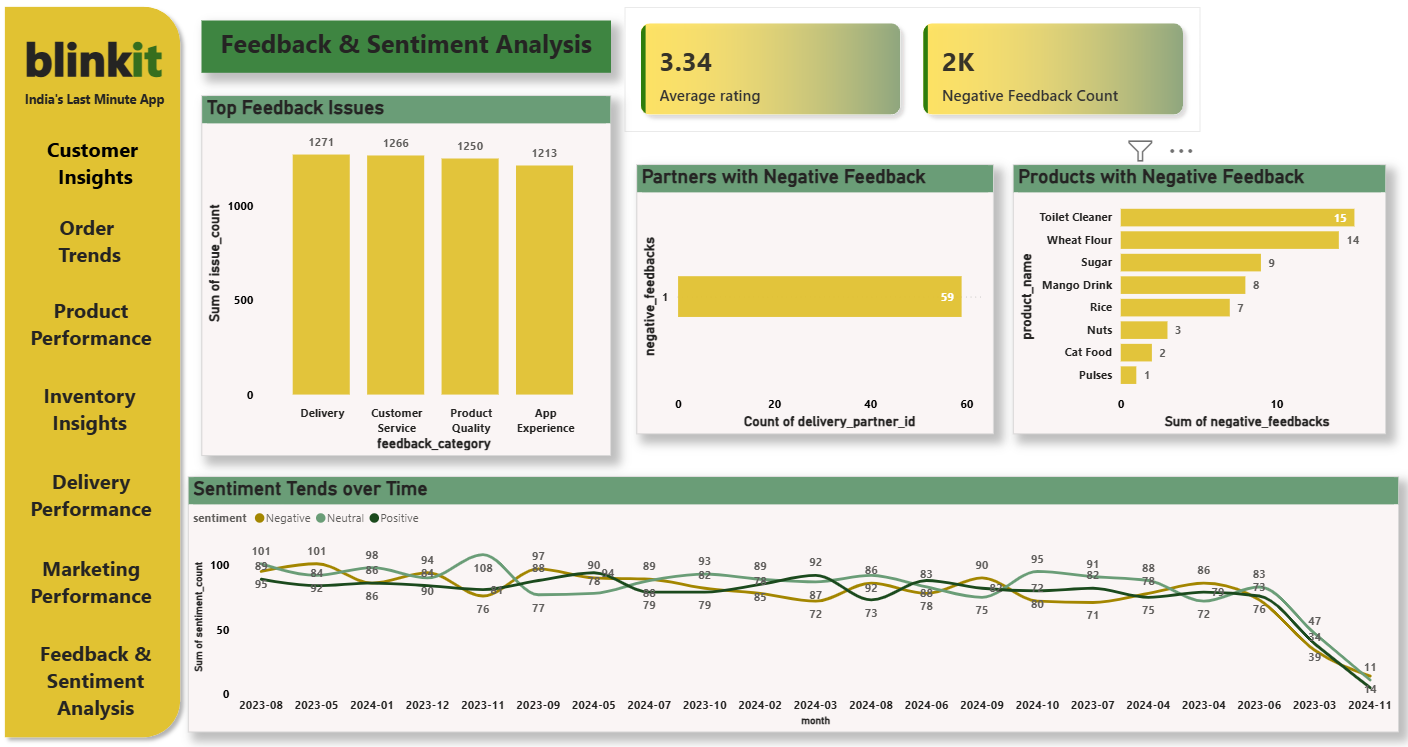

This screenshot's page, from the dashboard's own definition file:
{"tool":"powerbi","page":{"name":"Feedback & Sentiment Analysis","canvas":[1500,800],"ordinal":6},"visuals":[{"type":"shape","box":[0,0,204.1,791.4],"z":0},{"type":"textbox","box":[16,24.8,173.9,74.5],"z":1000},{"type":"textbox","box":[19.5,92.3,170.3,30.2],"z":2000},{"type":"textbox","box":[7.1,140.2,191.6,81.6],"z":3000},{"type":"actionButton","box":[8.9,134.9,186.3,81.6],"z":4000},{"type":"textbox","box":[3.5,221.8,191.6,71],"z":5000},{"type":"actionButton","box":[8.9,221.8,186.3,71],"z":6000},{"type":"textbox","box":[5.3,308.8,191.6,71],"z":7000},{"type":"actionButton","box":[10.6,308.8,188.1,71],"z":8000},{"type":"textbox","box":[3.5,399.3,191.6,71],"z":9000},{"type":"actionButton","box":[5.3,404.6,189.9,65.7],"z":10000},{"type":"textbox","box":[5.3,489.8,191.6,71],"z":11000},{"type":"actionButton","box":[7.1,489.8,186.3,71],"z":12000},{"type":"textbox","box":[5.3,582,191.6,71],"z":13000},{"type":"actionButton","box":[7.1,582,186.3,71],"z":14000},{"type":"textbox","box":[8.9,672.5,191.6,99.4],"z":15000},{"type":"actionButton","box":[9.3,672.2,188.9,100],"z":16000},{"type":"textbox","box":[216.7,24.1,433.3,55.6],"z":17000},{"type":"cardVisual","fields":{"Data":["Avg(blinkit avg_customer_rating.avg_rating)","blinkit customer_feedback.Negative Feedback Count"]},"box":[664.8,9.3,609.3,131.5],"z":18000},{"type":"columnChart","title":"Top Feedback Issues","fields":{"Category":["blinkit top_feedback_issues.feedback_category"],"Y":["Sum(blinkit top_feedback_issues.issue_count)"]},"box":[216.7,103.7,433.3,381.5],"z":19000},{"type":"barChart","title":"Partners with Negative Feedback","fields":{"Y":["CountNonNull(blinkit negative_feedback_by_partner.delivery_partner_id)"],"Category":["blinkit negative_feedback_by_partner.negative_feedbacks"]},"box":[677.8,175.9,377.8,285.2],"z":20000},{"type":"barChart","title":"Products with Negative Feedback","fields":{"Category":["blinkit negative_feedback_by_products.product_name"],"Y":["Sum(blinkit negative_feedback_by_products.negative_feedbacks)"]},"box":[1075.9,175.9,394.4,285.2],"z":21000},{"type":"lineChart","title":"Sentiment Tends over Time","fields":{"Category":["blinkit sentiment_over_time.month"],"Y":["Sum(blinkit sentiment_over_time.sentiment_count)"],"Series":["blinkit sentiment_over_time.sentiment"]},"box":[203.7,505.6,1281.5,270.4],"z":22000}]}

Visuals, with their boxes in screenshot pixels (x1, y1, x2, y2), scaled from the page's 1500x800 canvas onto the 1408x747 screenshot:
shape: x1=0 y1=0 x2=192 y2=739
textbox: x1=15 y1=23 x2=178 y2=93
textbox: x1=18 y1=86 x2=178 y2=114
textbox: x1=7 y1=131 x2=187 y2=207
actionButton: x1=8 y1=126 x2=183 y2=202
textbox: x1=3 y1=207 x2=183 y2=273
actionButton: x1=8 y1=207 x2=183 y2=273
textbox: x1=5 y1=288 x2=185 y2=355
actionButton: x1=10 y1=288 x2=187 y2=355
textbox: x1=3 y1=373 x2=183 y2=439
actionButton: x1=5 y1=378 x2=183 y2=439
textbox: x1=5 y1=457 x2=185 y2=524
actionButton: x1=7 y1=457 x2=182 y2=524
textbox: x1=5 y1=543 x2=185 y2=610
actionButton: x1=7 y1=543 x2=182 y2=610
textbox: x1=8 y1=628 x2=188 y2=721
actionButton: x1=9 y1=628 x2=186 y2=721
textbox: x1=203 y1=23 x2=610 y2=74
cardVisual - Avg(blinkit avg_customer_rating.avg_rating) x blinkit customer_feedback.Negative Feedback Count: x1=624 y1=9 x2=1196 y2=131
"Top Feedback Issues" columnChart: x1=203 y1=97 x2=610 y2=453
"Partners with Negative Feedback" barChart: x1=636 y1=164 x2=991 y2=431
"Products with Negative Feedback" barChart: x1=1010 y1=164 x2=1380 y2=431
"Sentiment Tends over Time" lineChart: x1=191 y1=472 x2=1394 y2=725
